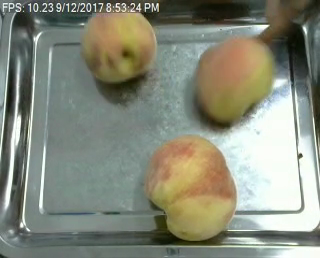Peach: (145, 132, 238, 241), (195, 34, 274, 122), (80, 3, 157, 83)
